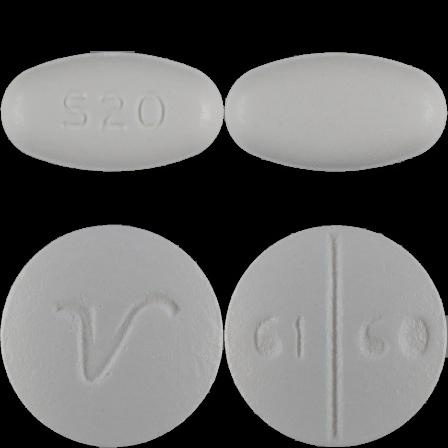61786-451: (0, 0, 224, 224)
